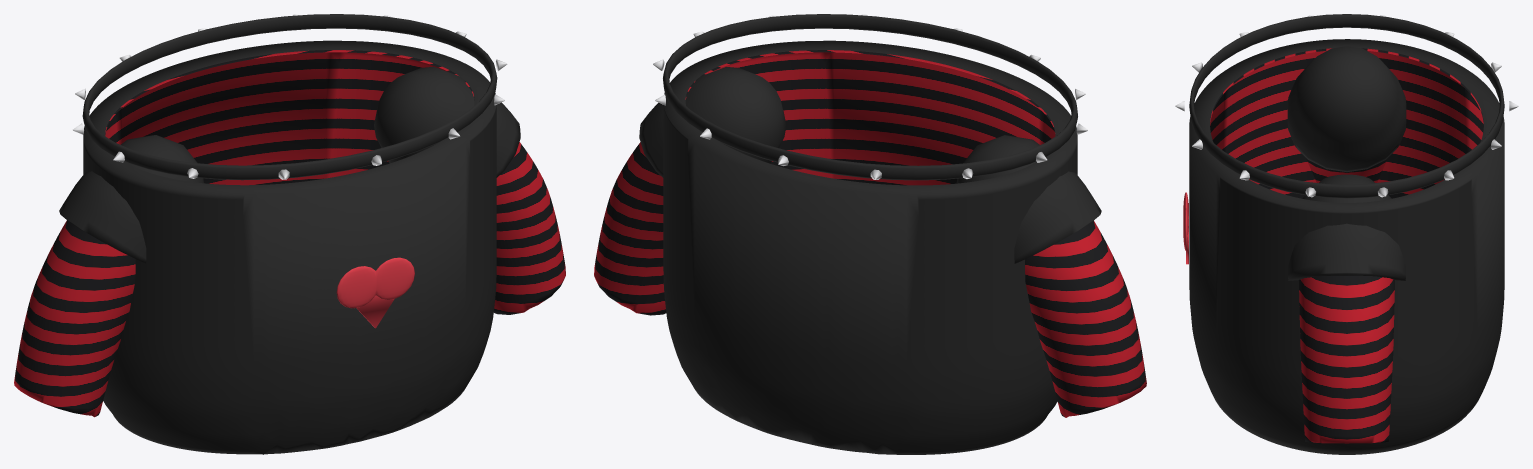
File: emotop2.fbx
3 views of the same model, side by side, from view 1: azimuth 30°, elevation 25°; view 2: azimuth 150°, elevation 25°; view 3: azimuth 270°, elevation 25° (orthographic). The views are drawn at different scales.
Visible parts, largest first — view 1: emotop2; view 2: emotop2; view 3: emotop2.
Boxes of the visible parts, x1,y1,x2,y2 form: emotop2: (14, 14, 565, 454); emotop2: (594, 14, 1146, 454); emotop2: (1175, 14, 1518, 454).
Bounding box in the file's own units: 1.24 × 0.6564 × 0.7284.
4 materials, 1 textured.
